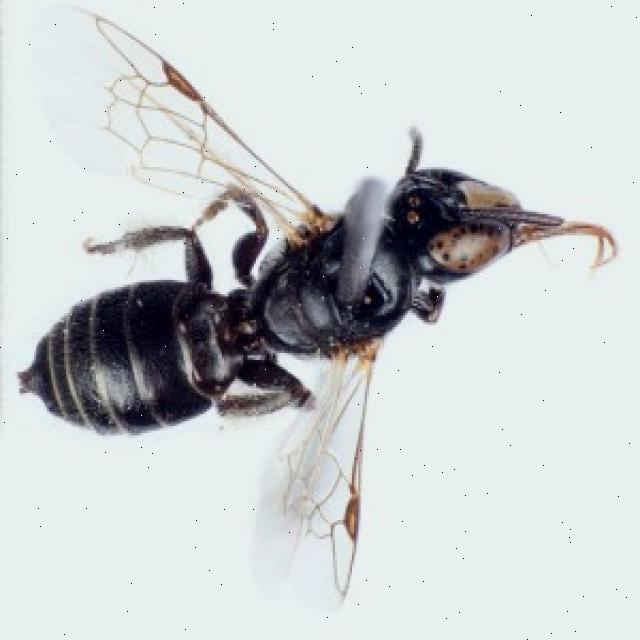Braunsapis: (32, 11, 560, 570)
